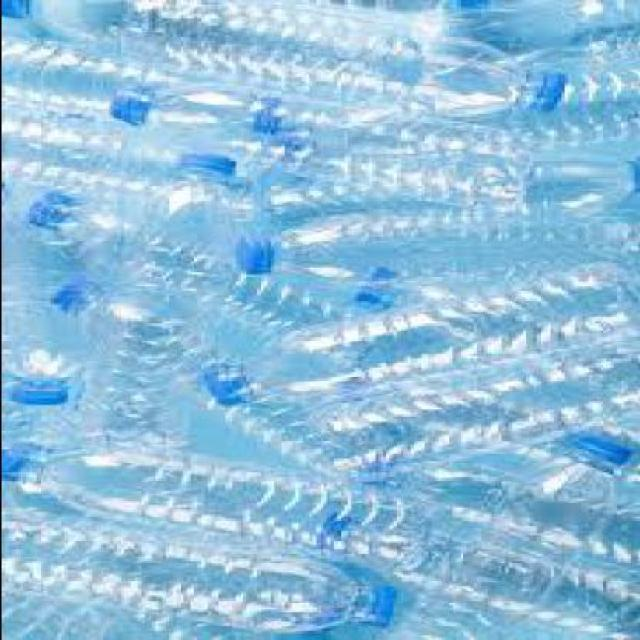PLASTIC: (1, 0, 638, 638), (203, 258, 637, 408), (221, 316, 636, 442), (1, 0, 412, 125), (109, 86, 528, 205), (382, 434, 626, 638), (304, 337, 636, 480), (2, 505, 384, 629), (11, 447, 395, 556), (2, 23, 336, 140), (231, 211, 637, 307), (63, 224, 228, 448), (378, 502, 636, 638), (392, 461, 636, 579), (1, 588, 382, 638), (406, 5, 563, 121), (1, 209, 84, 403), (501, 32, 636, 146), (353, 586, 636, 639), (1, 155, 154, 240), (318, 0, 636, 32), (2, 0, 182, 51), (517, 148, 637, 212), (1, 0, 332, 22), (0, 354, 74, 449), (552, 430, 630, 468), (21, 188, 70, 226), (2, 374, 66, 401), (196, 361, 238, 402), (307, 512, 350, 552), (104, 86, 148, 123), (46, 277, 94, 309), (171, 149, 227, 174), (228, 240, 266, 274), (529, 69, 556, 109), (1, 442, 28, 476), (249, 94, 273, 128), (1, 0, 28, 20)
